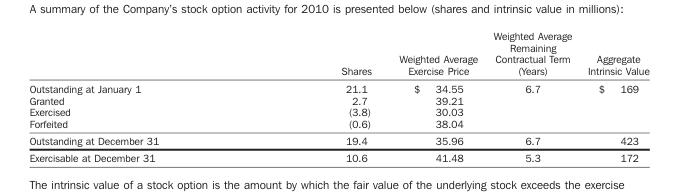table: (28, 29, 648, 163)
table column: (28, 29, 249, 163), (249, 29, 384, 163), (384, 29, 484, 163), (484, 29, 579, 163), (579, 29, 648, 163)
table column header: (28, 29, 648, 79)
table row: (28, 29, 648, 79), (28, 131, 648, 148), (28, 79, 648, 94), (28, 148, 648, 163), (28, 117, 648, 131), (28, 105, 648, 117), (28, 94, 648, 105)
